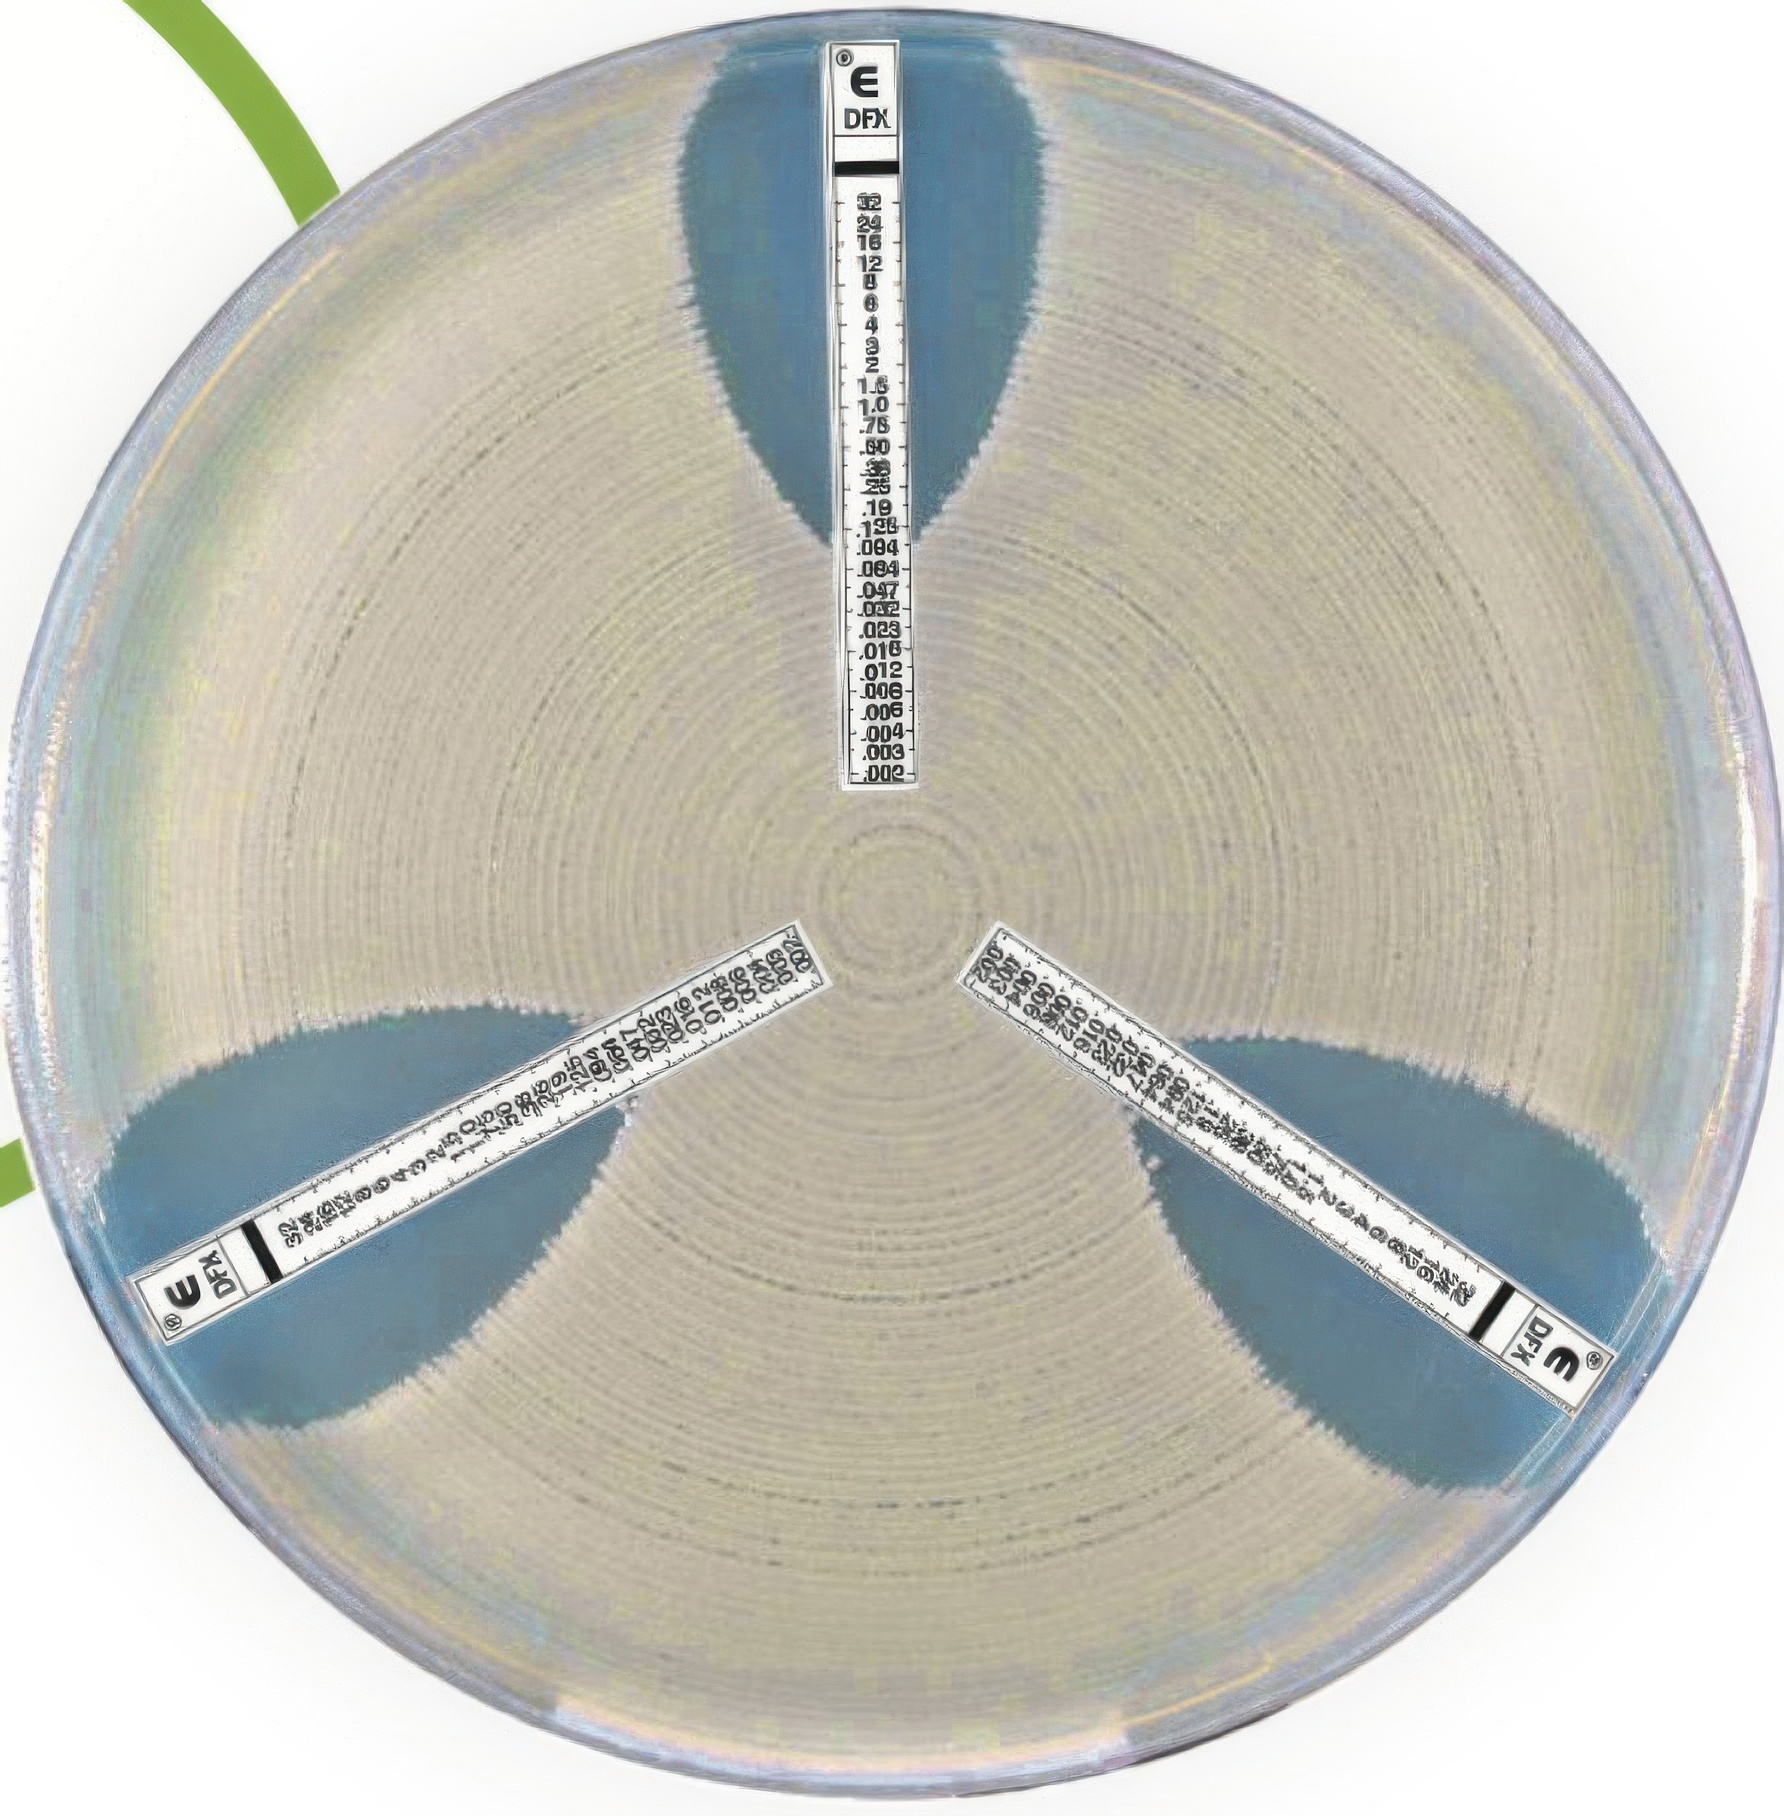line: (949, 918, 1622, 1422), (124, 919, 836, 1349), (820, 41, 920, 790)
zone: (1039, 915, 1712, 1547), (46, 893, 696, 1478), (676, 34, 1052, 550)
